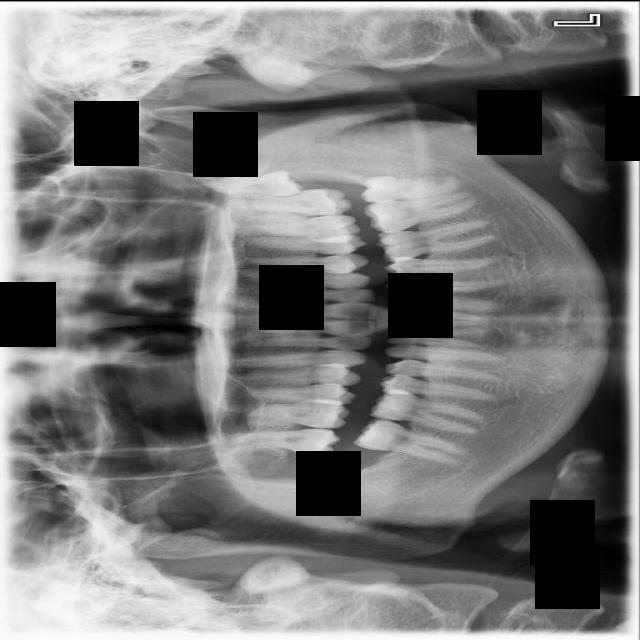52: (347, 405, 407, 461), (362, 193, 409, 243), (372, 224, 416, 266), (370, 385, 415, 423)
73: (576, 52, 594, 58)
BioHorizons Implant: (222, 185, 353, 219)
BioLife Implant: (204, 170, 305, 197)
Biomet 3i Implant: (356, 170, 461, 204)
Blue Sky Bio Implant: (363, 190, 477, 236)
Caries: (230, 424, 341, 456)
Implant: (351, 412, 473, 468)
